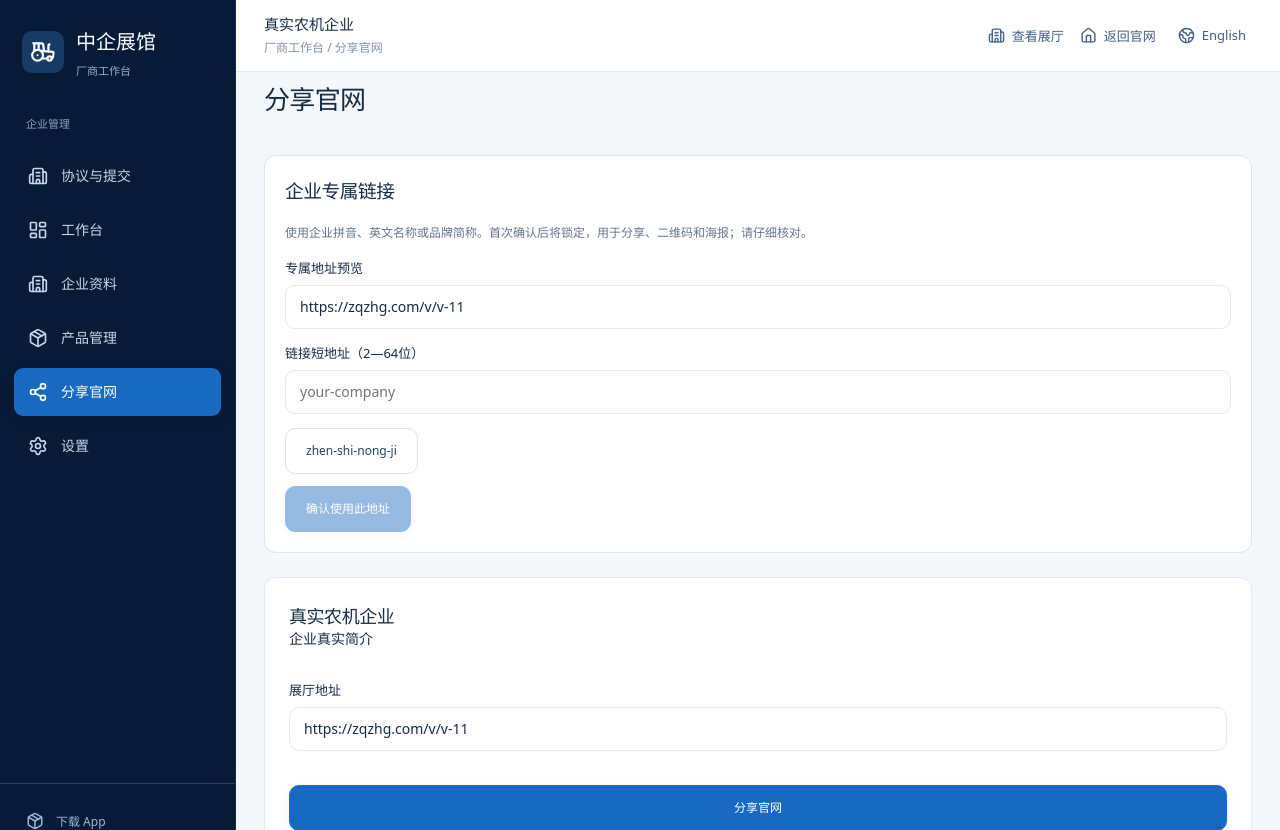
Scenario: checks a proposed company address, saves only after confirmation and locks the first choice
(page scrolled)
What coordinates should you click on to do the following:
click the button "zhen-shi-nong-ji"
I would click on:
 (351, 450)
Its box is [285,428,418,474].
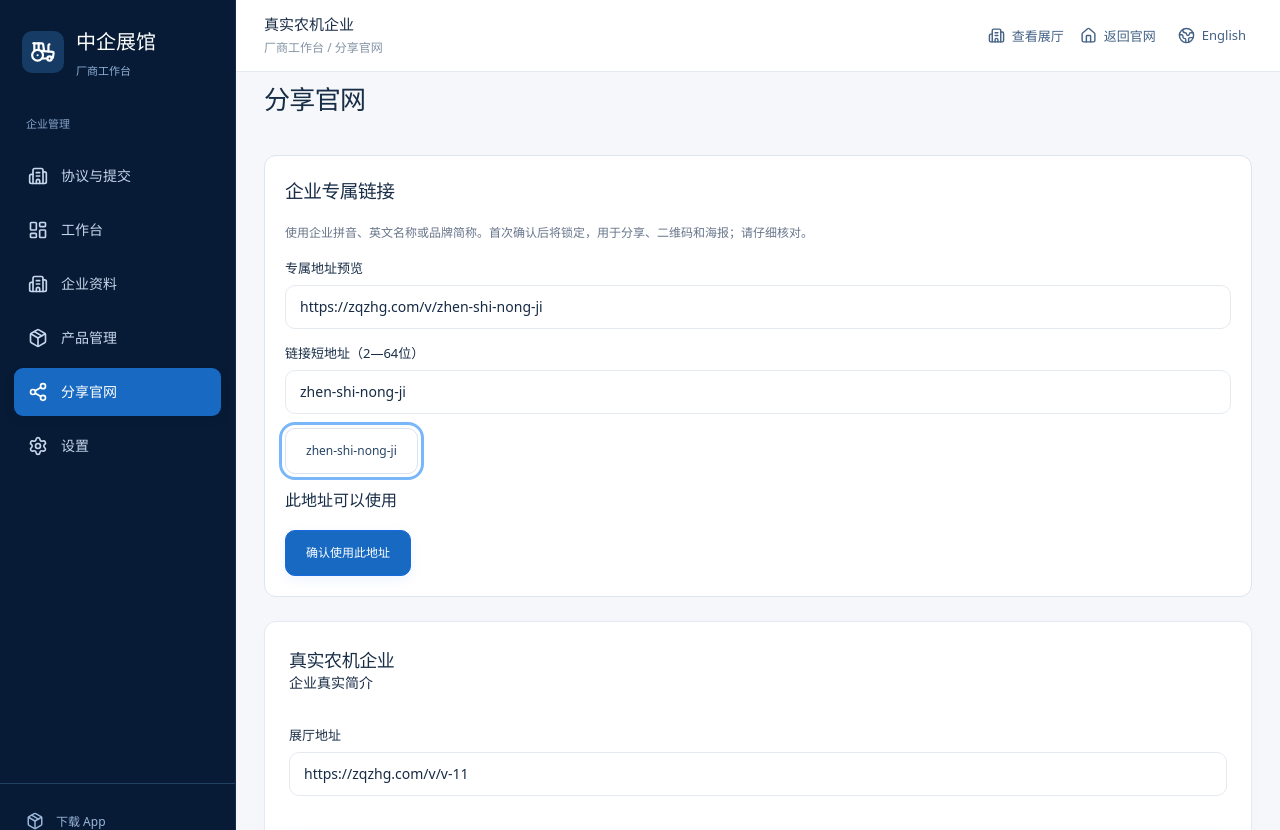
Result: the text "此地址可以使用" is shown at [285,488,397,510]
What coordinates should you click on to do the following:
click the button "确认使用此地址"
I would click on:
 (348, 553)
Its box is [285,530,411,576].
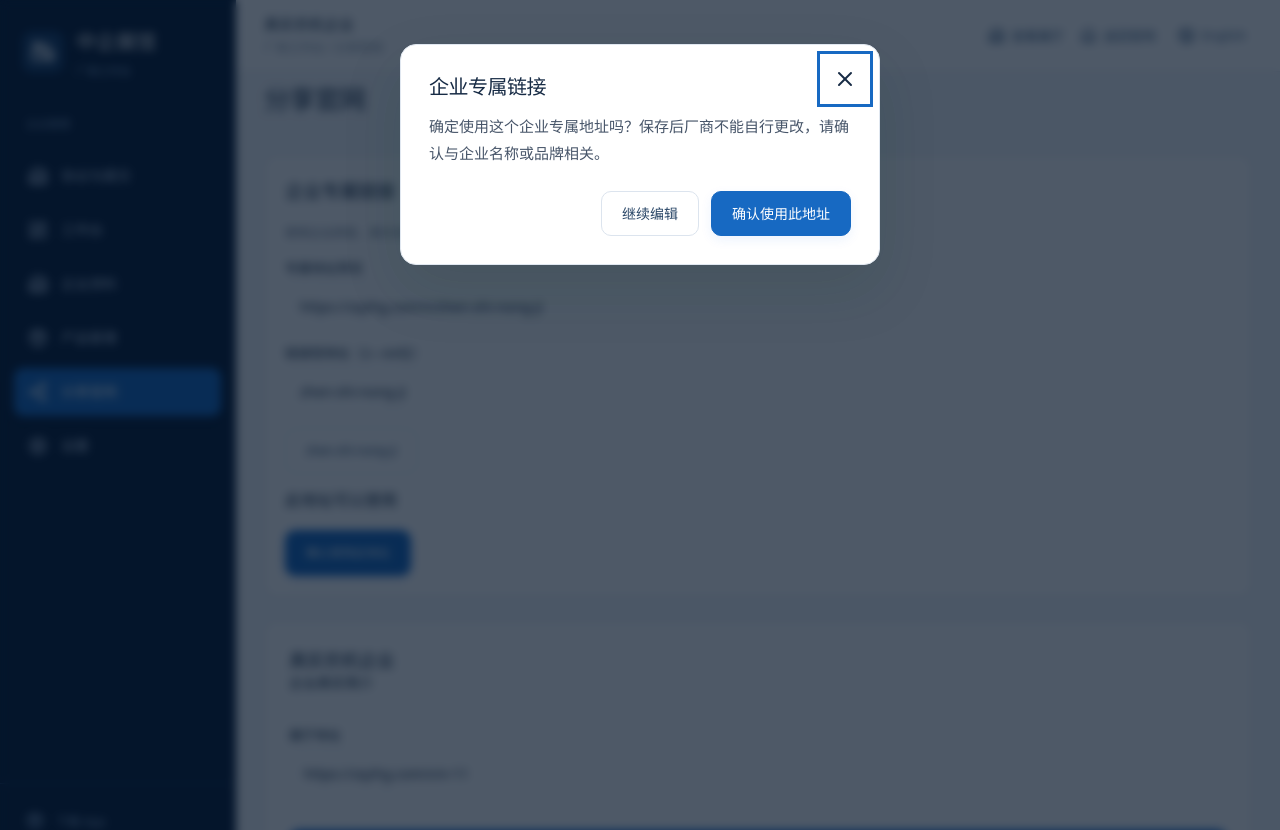
What coordinates should you click on to do the following:
click the button "继续编辑"
I would click on:
 (650, 214)
Its box is [601,191,699,236].
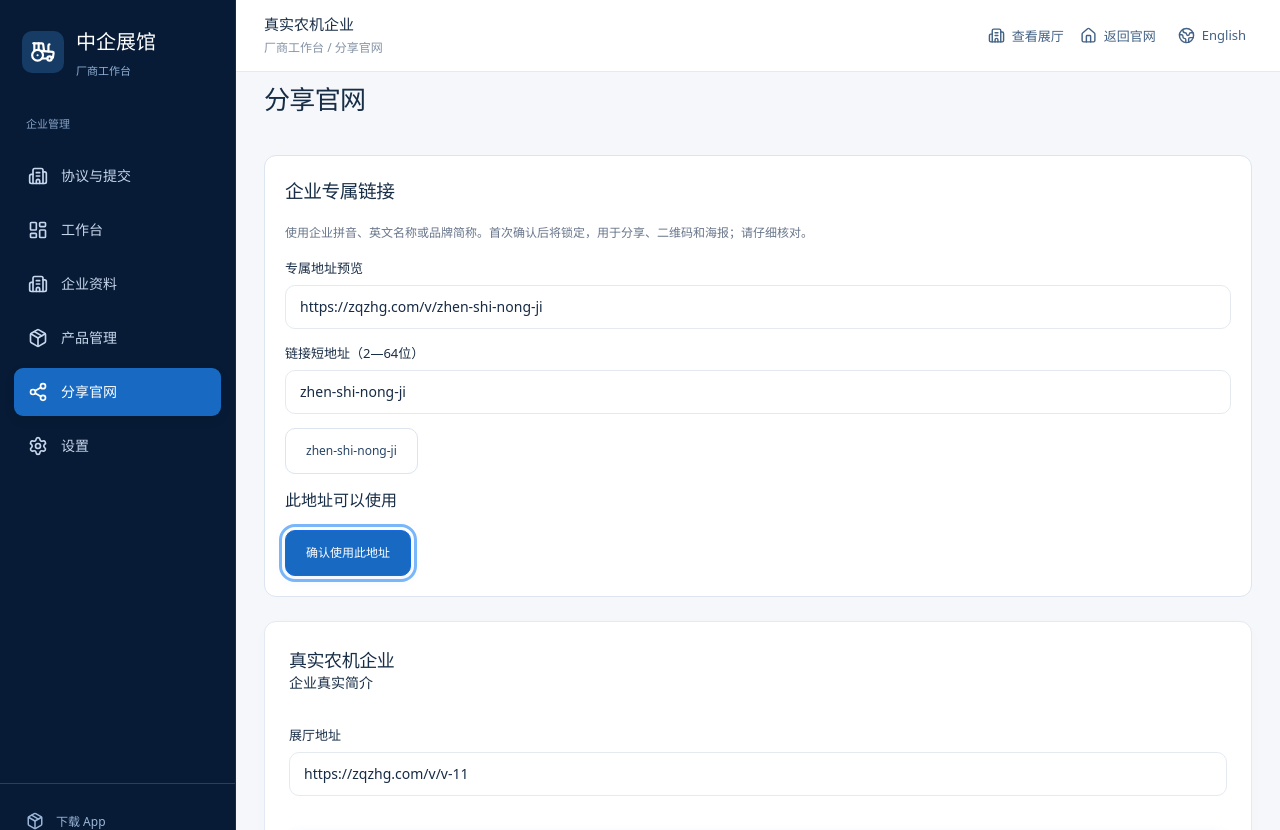
What coordinates should you click on to do the following:
click the button "确认使用此地址"
I would click on:
 (348, 553)
Its box is [285,530,411,576].
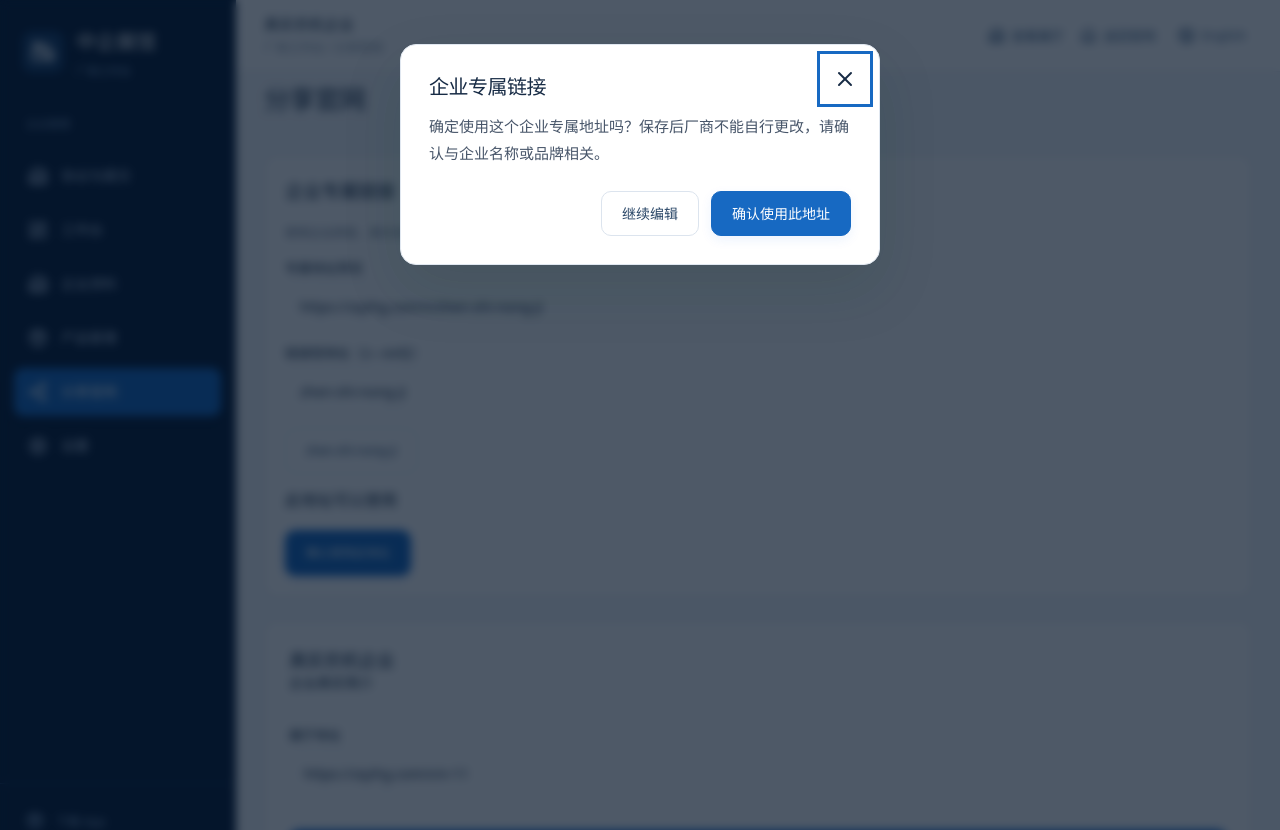
What coordinates should you click on to do the following:
click the button "确认使用此地址"
I would click on:
 (781, 214)
Its box is [711,191,851,236].
(page scrolled)
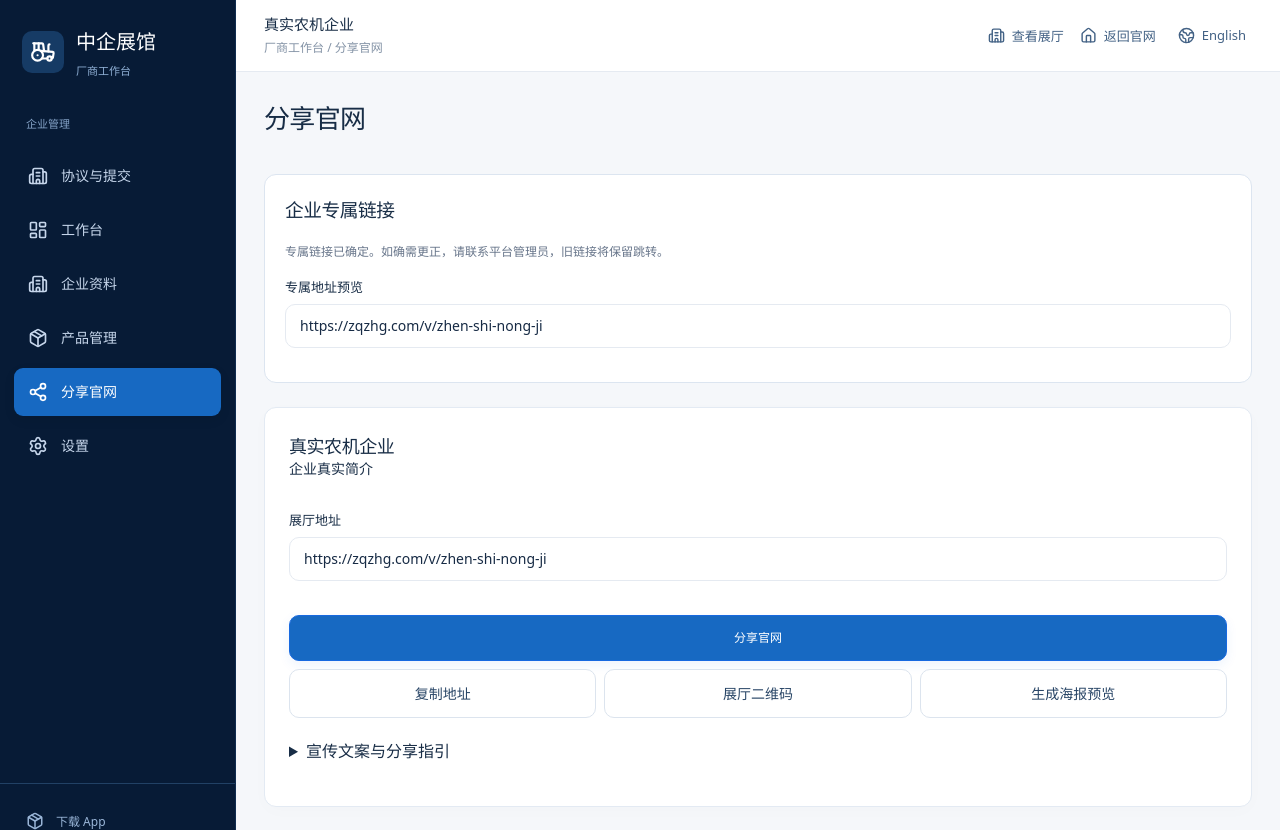
Result: the text "专属链接已确定。如确需更正，请联系平台管理员，旧链接将保留跳转。" is shown at [285,243,669,260]
Result: the label "链接短地址（2—64位）" is gone
